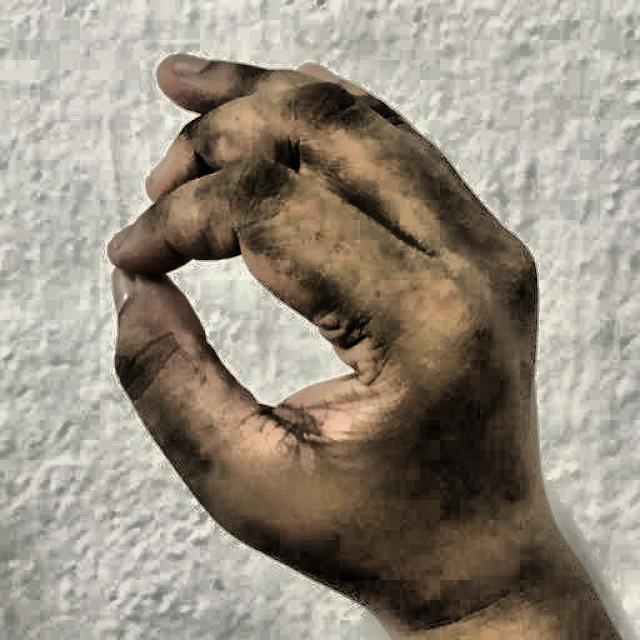Yo: (60, 22, 595, 638)
